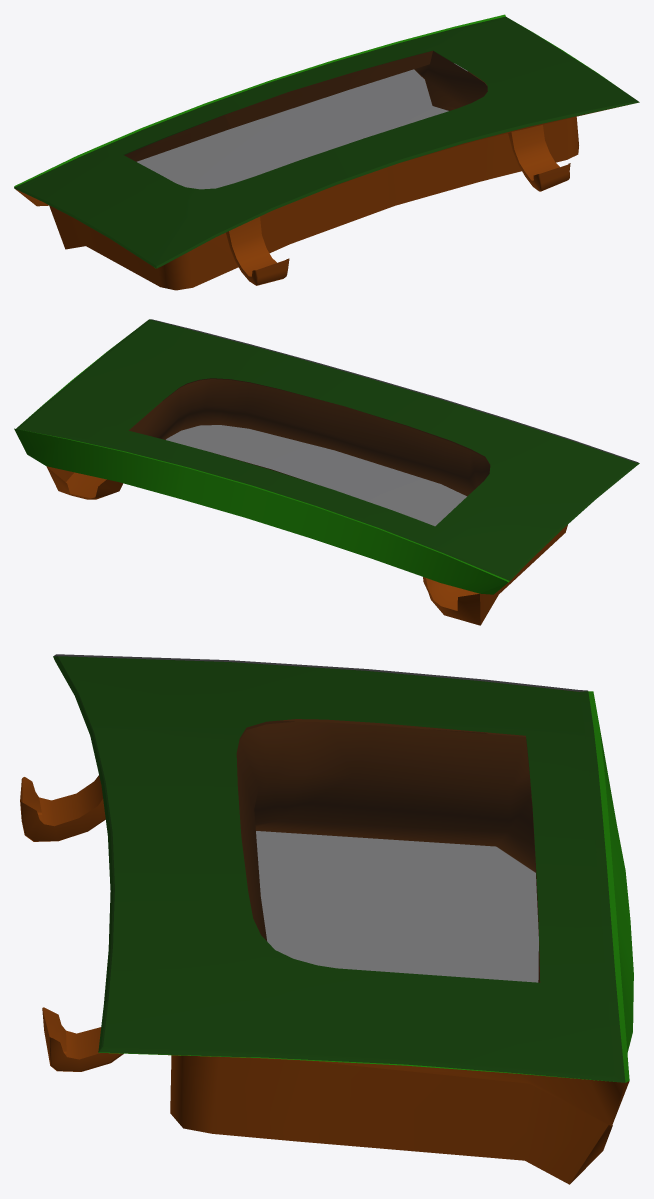
File: Door_Top_LR.obj
3 renders of one model, top to bottom at view 1: azimuth 30°, elevation 25°; view 2: azimuth 150°, elevation 25°; view 3: azimuth 270°, elevation 25°, orthographic. The views are drawn at different scales.
Visible parts, largest first — view 1: Door_Top_LR; view 2: Door_Top_LR; view 3: Door_Top_LR.
Boxes of the visible parts, box(x1,y1,x2,y2) form: Door_Top_LR: box(14, 14, 639, 290); Door_Top_LR: box(14, 319, 639, 625); Door_Top_LR: box(20, 654, 633, 1184).
Size of the model in its own units: 1.11 by 0.2595 by 0.6066.
